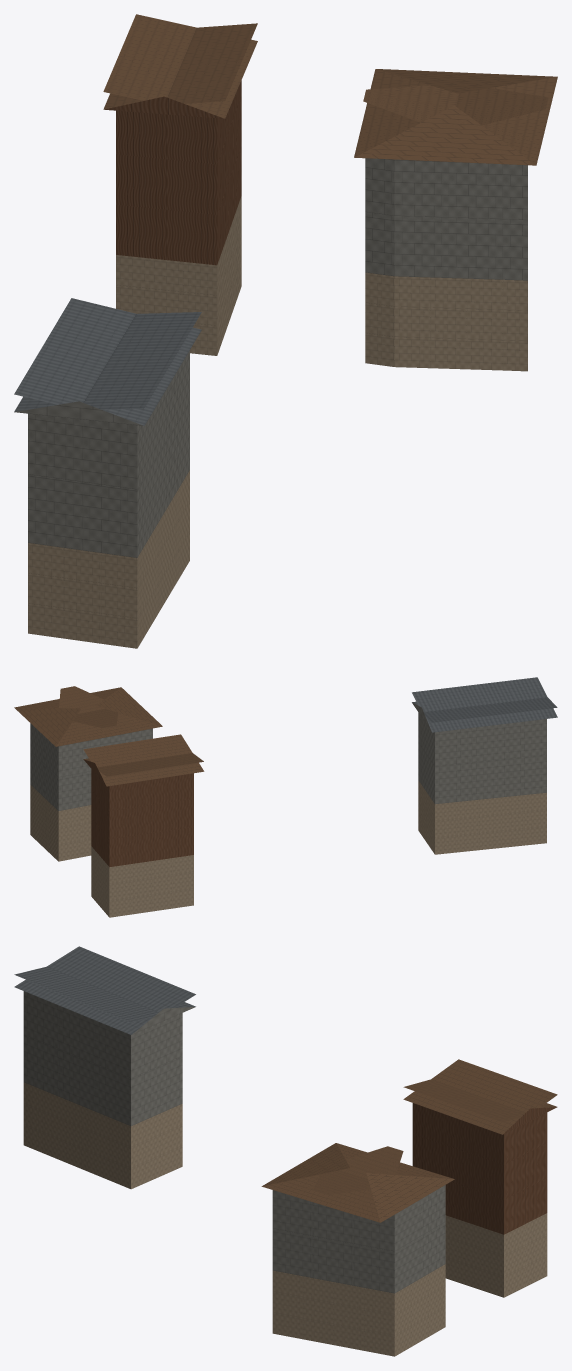
File: bld_c17_29_378.gltf
3 renders of one model, top to bottom at view 1: azimuth 30°, elevation 25°; view 2: azimuth 150°, elevation 25°; view 3: azimuth 270°, elevation 25°, orthographic. The views are drawn at different scales.
Parts seen in each view (by area): view 1: bld_c17_29_378; view 2: bld_c17_29_378; view 3: bld_c17_29_378.
Part boxes in pixels (x1,y1,x2,y2): bld_c17_29_378: (14,14,557,648); bld_c17_29_378: (14,677,557,917); bld_c17_29_378: (14,946,557,1356).
Size of the model in its own units: 44.75 by 14.6 by 39.86.
7 materials, 7 textured.
